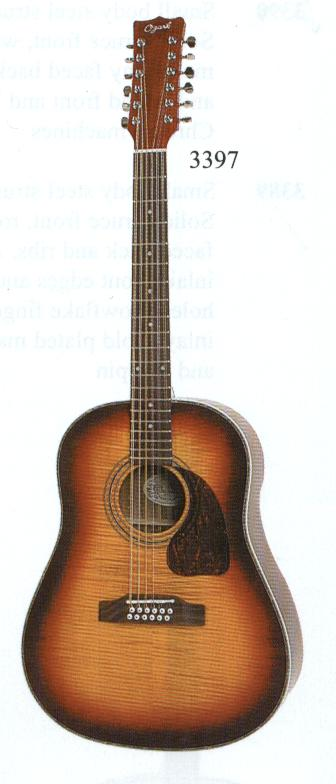guitar: (19, 15, 304, 752)
